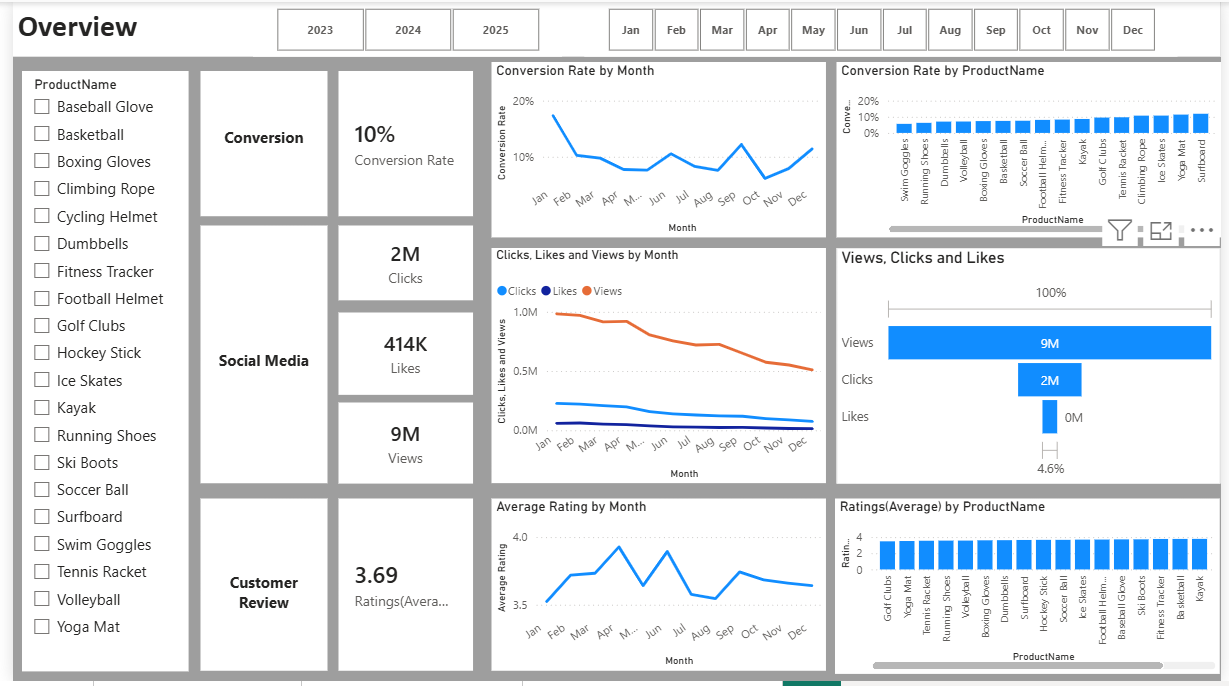

The page's visual inventory and layout, read from the dashboard file:
{"tool":"powerbi","page":{"name":"Overview","canvas":[1280,720],"ordinal":0},"visuals":[{"type":"textbox","box":[0,0,1280.8,58.3],"z":0},{"type":"slicer","fields":{"Values":["products_dim.ProductName"]},"box":[9.7,72.9,176.5,636.4],"z":1000},{"type":"textbox","box":[199.2,72.9,134.4,153.8],"z":2000},{"type":"textbox","box":[199.2,236.4,134.4,273.6],"z":3000},{"type":"textbox","box":[199.2,526.2,134.4,183],"z":4000},{"type":"cardVisual","fields":{"Data":["_Calculations.Clicks"]},"box":[344.9,236.4,142.5,79.3],"z":5000},{"type":"cardVisual","fields":{"Data":["_Calculations.Conversion Rate"]},"box":[344.9,72.9,142.5,153.8],"z":6000},{"type":"cardVisual","fields":{"Data":["_Calculations.Likes"]},"box":[344.9,328.7,142.5,87.4],"z":7000},{"type":"cardVisual","fields":{"Data":["_Calculations.Views"]},"box":[344.9,424.2,142.5,85.8],"z":8000},{"type":"cardVisual","fields":{"Data":["_Calculations.Ratings(Avg)"]},"box":[344.9,526.2,142.5,183],"z":9000},{"type":"slicer","fields":{"Values":["Calendar.Year"]},"box":[254.2,0,327.1,58.3],"z":10000},{"type":"slicer","fields":{"Values":["Calendar.MonthNameShort"]},"box":[605.5,0,628.8,58.2],"z":11000},{"type":"lineChart","fields":{"Category":["Calendar.MonthNameShort"],"Y":["_Calculations.Conversion Rate"]},"box":[506.8,63.1,354.6,186.2],"z":12000},{"type":"clusteredColumnChart","fields":{"Category":["products_dim.ProductName"],"Y":["_Calculations.Conversion Rate"]},"box":[872.8,63.1,408,186.2],"z":13000},{"type":"lineChart","fields":{"Category":["Calendar.MonthNameShort"],"Y":["_Calculations.Clicks","_Calculations.Likes","_Calculations.Views"]},"box":[506.8,260.7,354.6,249.4],"z":14000},{"type":"lineChart","fields":{"Category":["Calendar.MonthNameShort"],"Y":["_Calculations.Ratings(Avg)"]},"box":[506.8,526.2,354.6,183],"z":15000},{"type":"funnel","fields":{"Y":["_Calculations.Views","_Calculations.Clicks","_Calculations.Likes"]},"box":[873,261,407,249],"z":16000},{"type":"clusteredColumnChart","fields":{"Category":["products_dim.ProductName"],"Y":["_Calculations.Ratings(Avg)"]},"box":[871.1,526.2,408,186.2],"z":17000}]}

Visuals, with their boxes in screenshot pixels (x1, y1, x2, y2), scaled from the page's 1280x720 canvas onto the 1229x686 screenshot:
textbox: (x1=0, y1=0, x2=1228, y2=56)
slicer - products_dim.ProductName: (x1=9, y1=69, x2=179, y2=676)
textbox: (x1=191, y1=69, x2=320, y2=216)
textbox: (x1=191, y1=225, x2=320, y2=486)
textbox: (x1=191, y1=501, x2=320, y2=676)
cardVisual - _Calculations.Clicks: (x1=331, y1=225, x2=468, y2=301)
cardVisual - _Calculations.Conversion Rate: (x1=331, y1=69, x2=468, y2=216)
cardVisual - _Calculations.Likes: (x1=331, y1=313, x2=468, y2=396)
cardVisual - _Calculations.Views: (x1=331, y1=404, x2=468, y2=486)
cardVisual - _Calculations.Ratings(Avg): (x1=331, y1=501, x2=468, y2=676)
slicer - Calendar.Year: (x1=244, y1=0, x2=558, y2=56)
slicer - Calendar.MonthNameShort: (x1=581, y1=0, x2=1185, y2=55)
lineChart - Calendar.MonthNameShort x _Calculations.Conversion Rate: (x1=487, y1=60, x2=827, y2=238)
clusteredColumnChart - products_dim.ProductName x _Calculations.Conversion Rate: (x1=838, y1=60, x2=1228, y2=238)
lineChart - Calendar.MonthNameShort x _Calculations.Clicks: (x1=487, y1=248, x2=827, y2=486)
lineChart - Calendar.MonthNameShort x _Calculations.Ratings(Avg): (x1=487, y1=501, x2=827, y2=676)
funnel - _Calculations.Views x _Calculations.Clicks: (x1=838, y1=249, x2=1228, y2=486)
clusteredColumnChart - products_dim.ProductName x _Calculations.Ratings(Avg): (x1=836, y1=501, x2=1228, y2=679)
